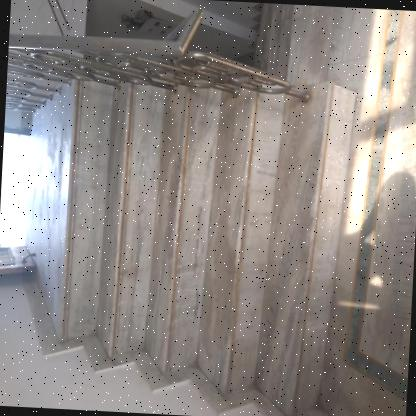stair: (0, 54, 362, 412)
